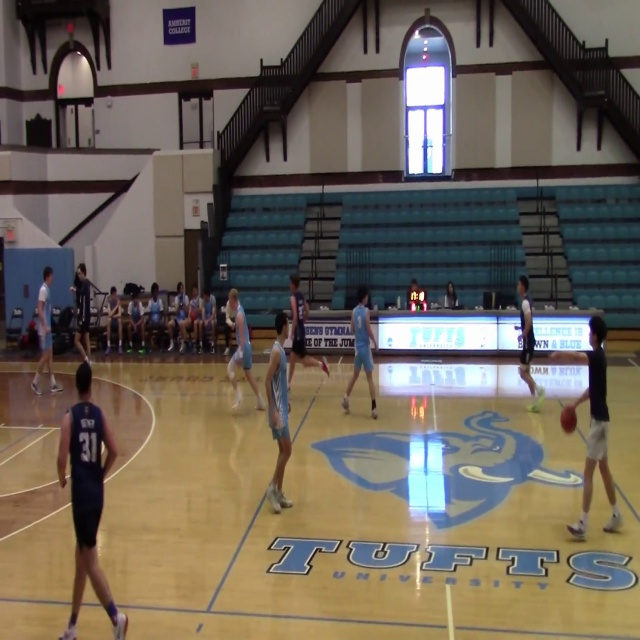Basketball: (560, 405, 577, 433)
